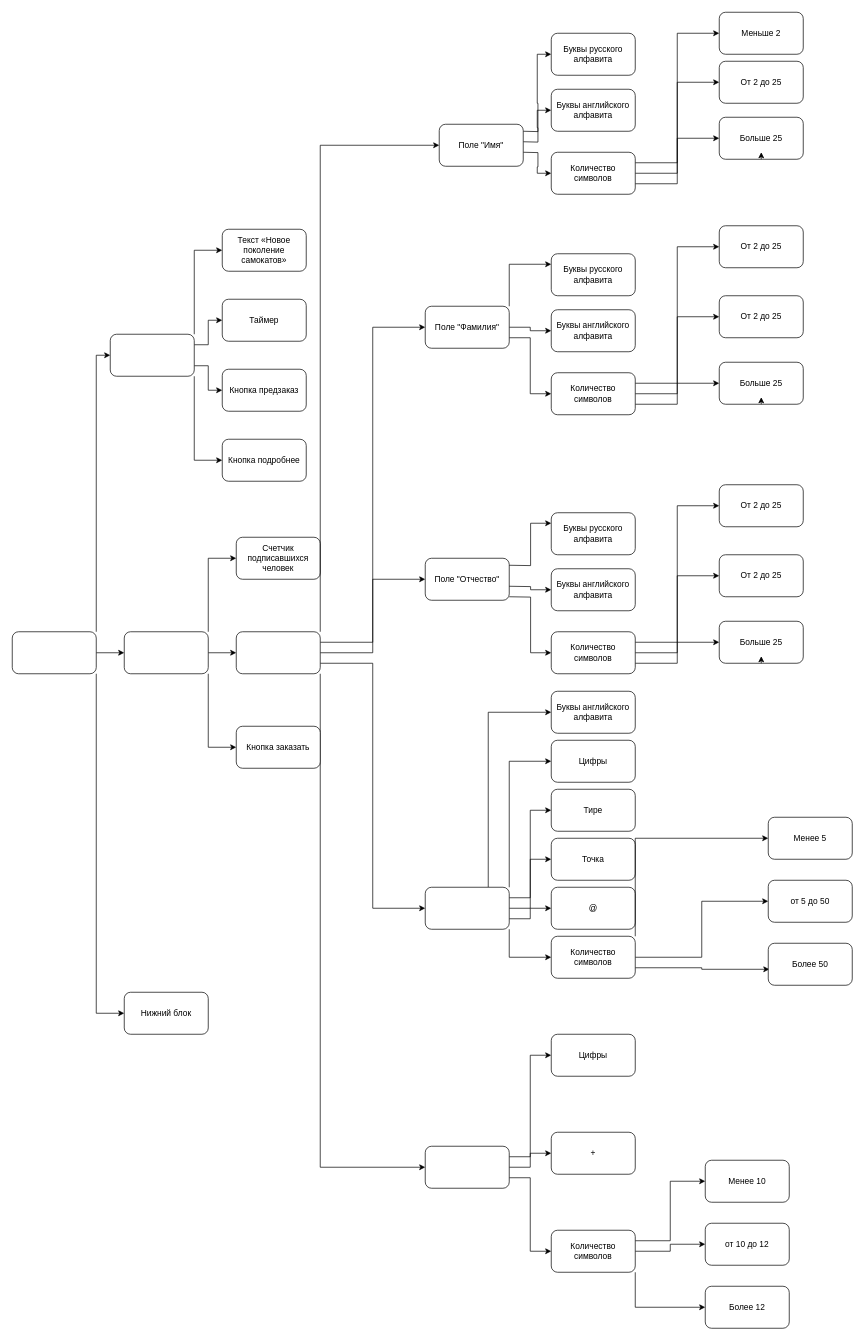
This 865x1341 diagram has some shape labels left out. Here are the shapes that lost their labels. From the top down, the centre of each, then its label:
(x=152, y=355): Верхний блок
(x=54, y=652): Промо-страница Яндекс.Самоката
(x=166, y=652): Форма предзаказа
(x=278, y=652): Поля формы
(x=467, y=908): Поле "Электронный адрес"
(x=467, y=1167): Поле "Номер телефона"
